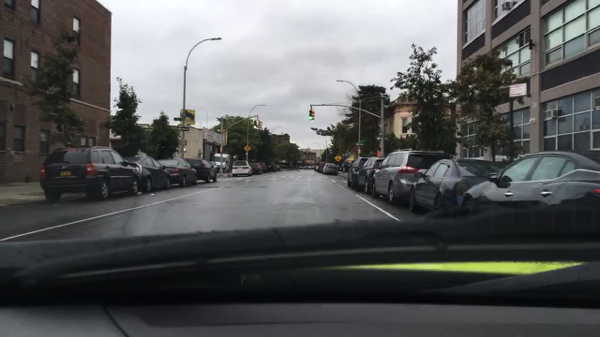car: (462, 150, 599, 214), (40, 147, 139, 204), (409, 158, 504, 216), (375, 149, 452, 206), (130, 157, 172, 192), (356, 154, 386, 197), (159, 158, 197, 187), (191, 159, 218, 184), (347, 156, 366, 187), (209, 153, 229, 174), (233, 161, 251, 176), (325, 166, 338, 176), (251, 164, 261, 175), (266, 162, 275, 172), (320, 165, 332, 172), (274, 164, 282, 172), (261, 162, 266, 174), (315, 166, 323, 172), (310, 166, 317, 171), (296, 165, 303, 169), (306, 166, 312, 169), (301, 166, 307, 169)
traffic light: (253, 121, 257, 131), (258, 121, 262, 131), (308, 111, 312, 120), (311, 112, 315, 120)
traffic sign: (508, 83, 526, 97), (375, 135, 388, 141), (176, 127, 189, 132), (355, 142, 364, 147), (244, 146, 250, 153), (336, 154, 341, 162), (173, 118, 184, 121), (359, 140, 367, 144)
